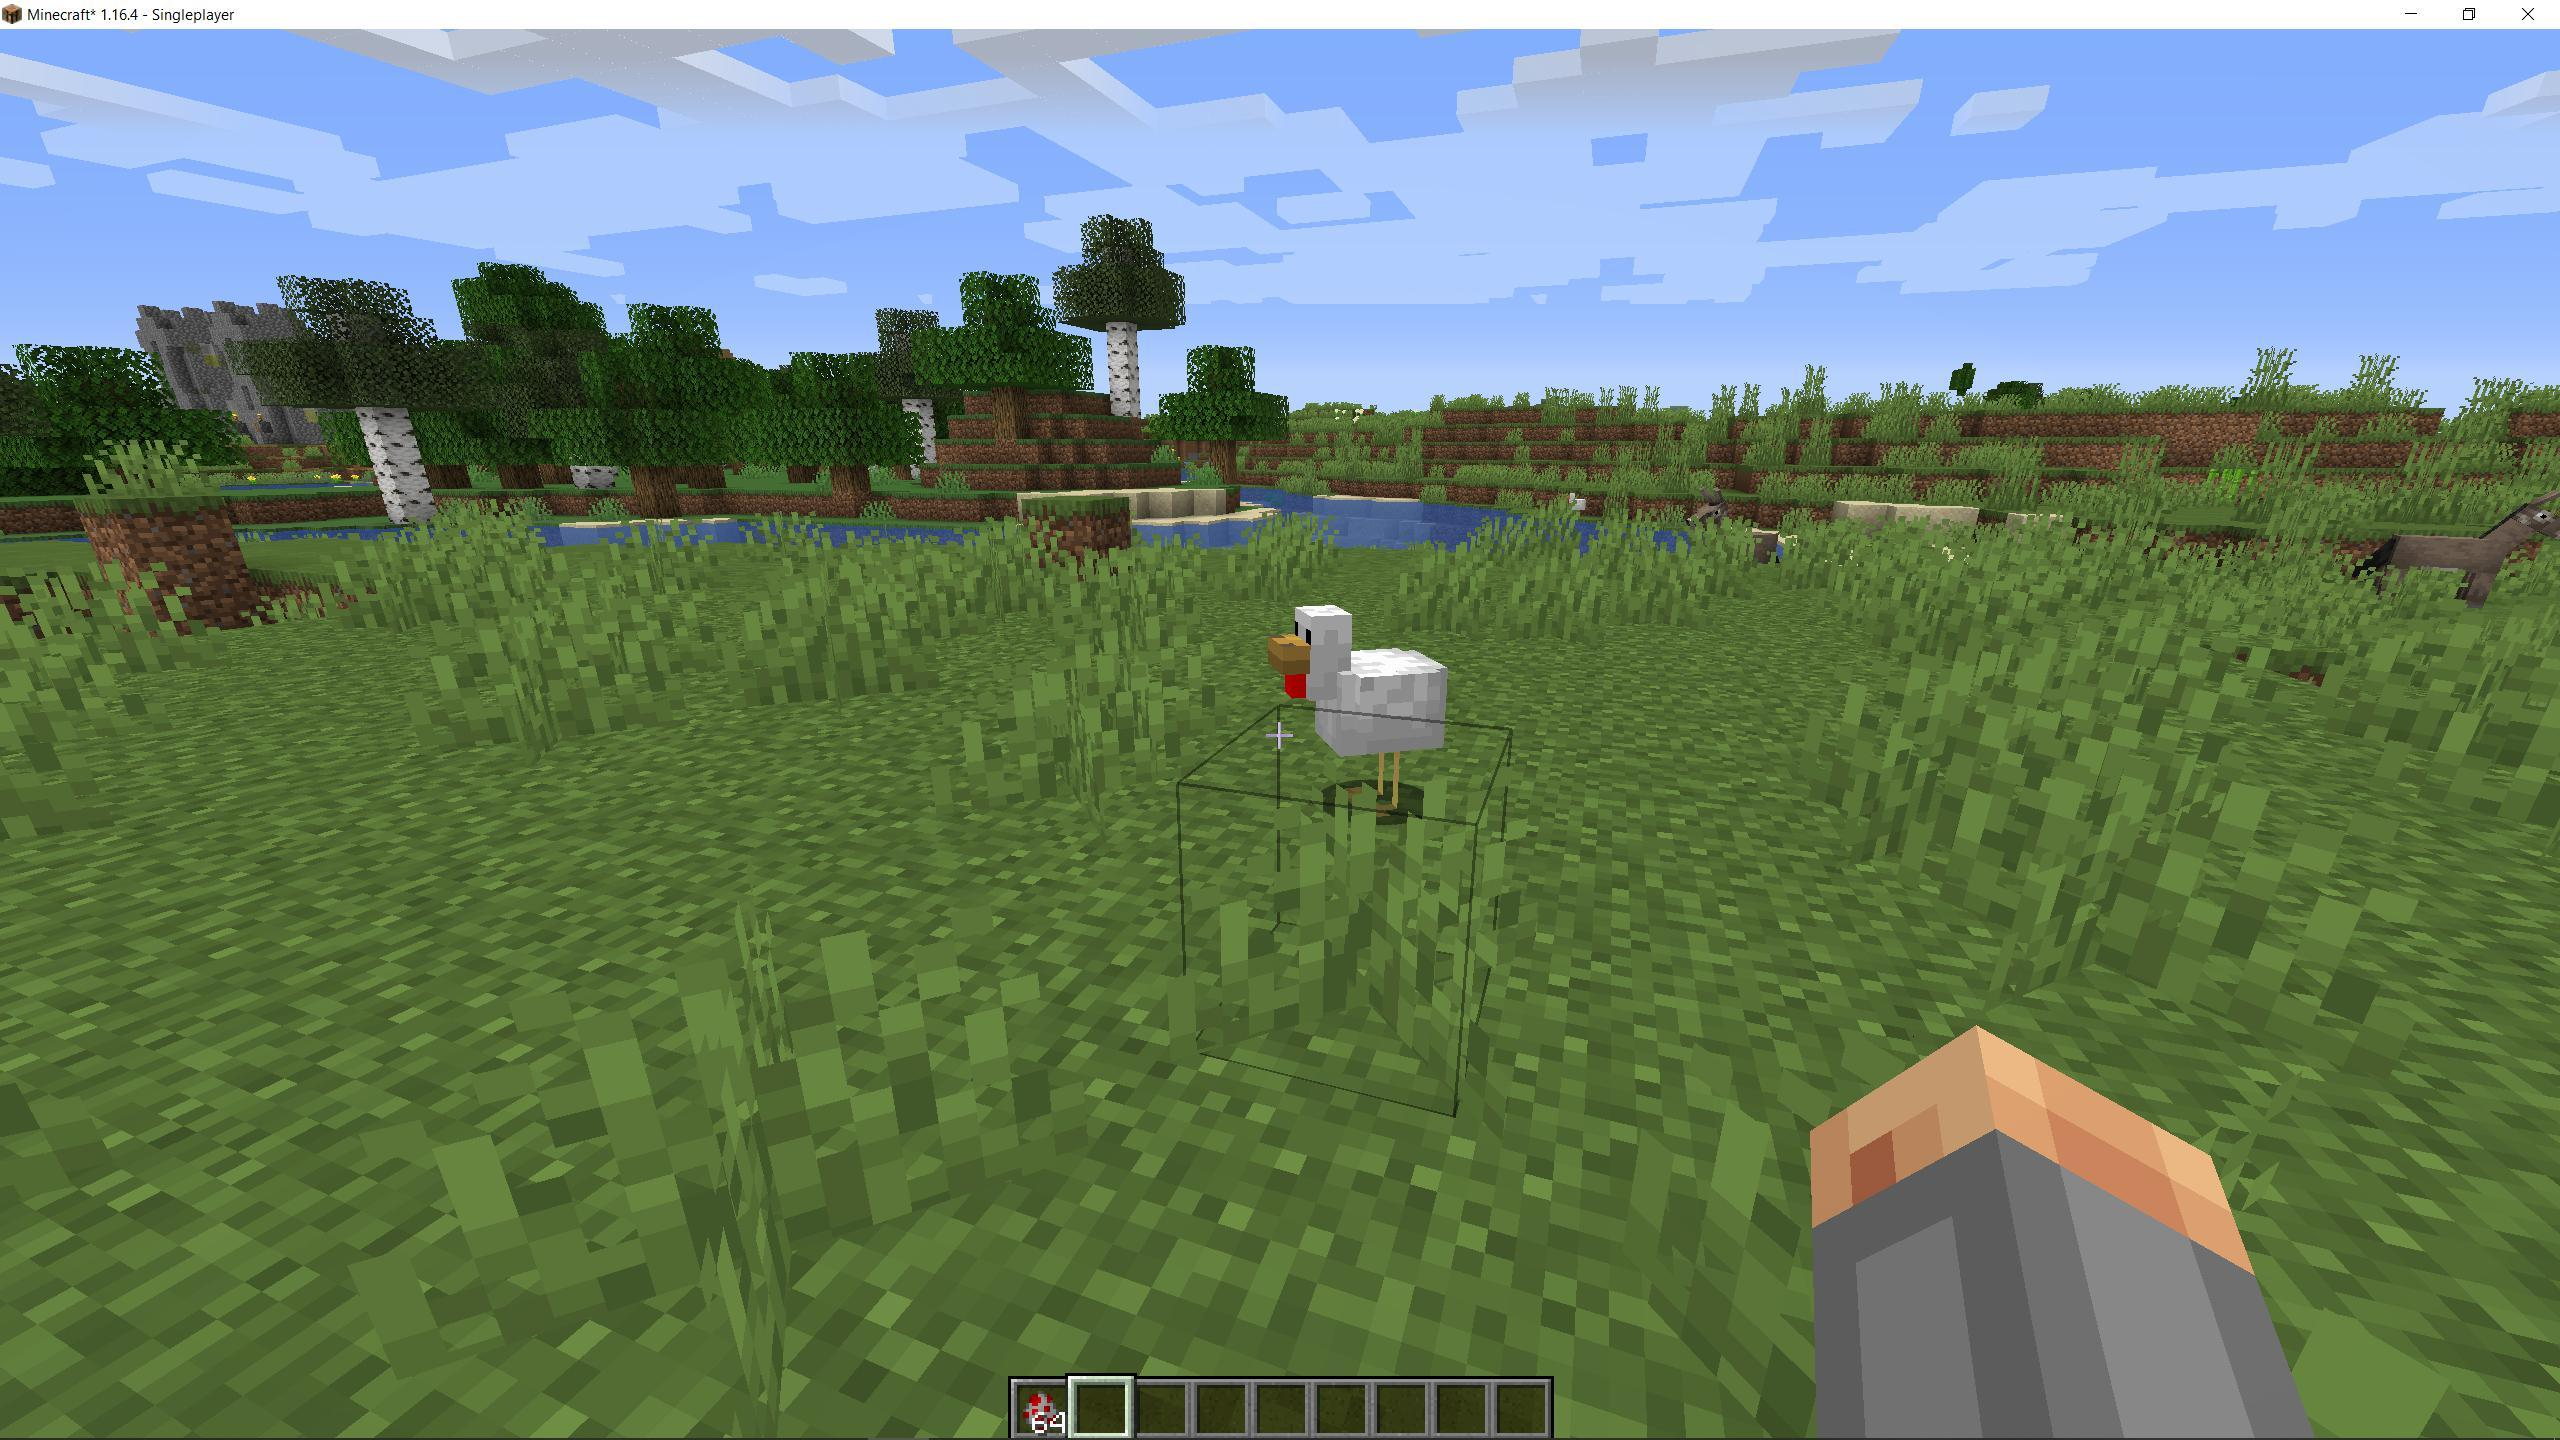chicken: (1266, 601, 1452, 830), (1558, 491, 1591, 520)
